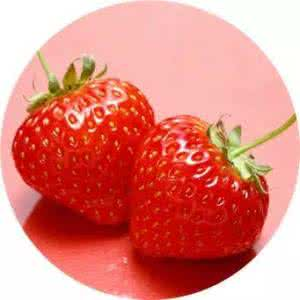strawberry: (136, 101, 272, 257), (19, 71, 153, 221)
